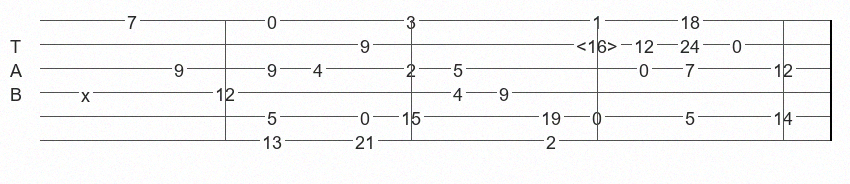0: (267, 12, 281, 29), (360, 108, 374, 125), (592, 108, 606, 125), (639, 60, 653, 77), (732, 36, 746, 53)
1: (592, 12, 606, 29)
12: (215, 84, 239, 101), (634, 36, 658, 53), (773, 60, 797, 77)
13: (262, 132, 286, 149)
14: (773, 108, 797, 125)
15: (401, 108, 425, 125)
18: (680, 12, 704, 29)
19: (541, 108, 565, 125)
2: (406, 60, 420, 77), (546, 132, 560, 149)
21: (355, 132, 379, 149)
24: (680, 36, 704, 53)
3: (406, 12, 420, 29)
4: (313, 60, 327, 77), (453, 84, 467, 101)
5: (267, 108, 281, 125), (453, 60, 467, 77), (685, 108, 699, 125)
7: (127, 12, 141, 29), (685, 60, 699, 77)
9: (174, 60, 188, 77), (267, 60, 281, 77), (360, 36, 374, 53), (499, 84, 513, 101)
harmonic: (576, 36, 622, 53)
x: (81, 85, 94, 99)
